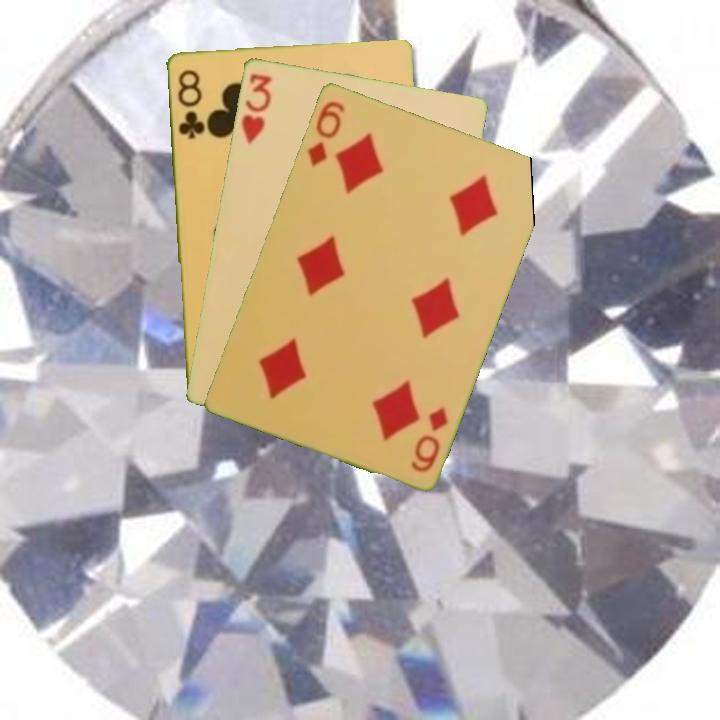3h: (237, 69, 274, 146)
6d: (303, 97, 348, 169), (407, 402, 451, 475)
8c: (174, 66, 206, 142)
